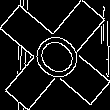O_SE: (21, 22, 89, 88)
